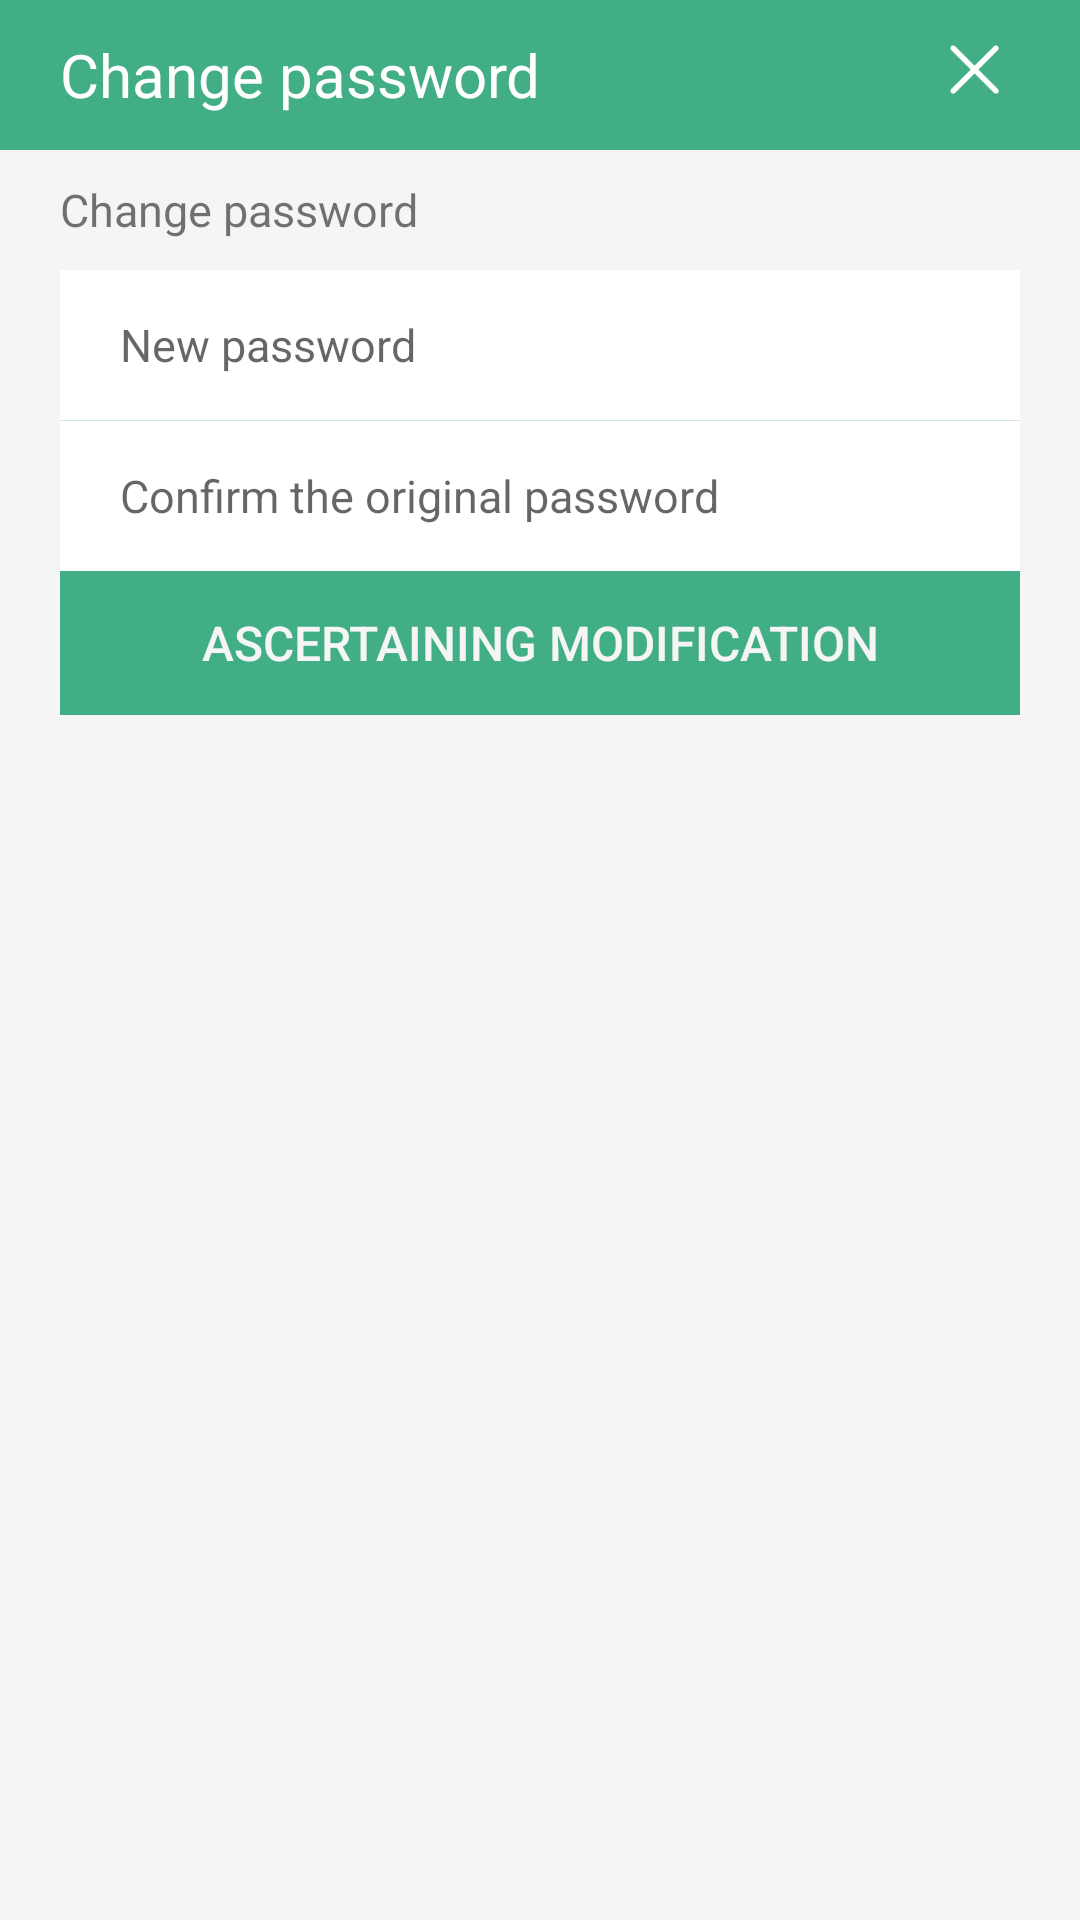

Icon click points for this 1080*1920 phone screenshot, format point (x, y):
close: point (974, 69)
